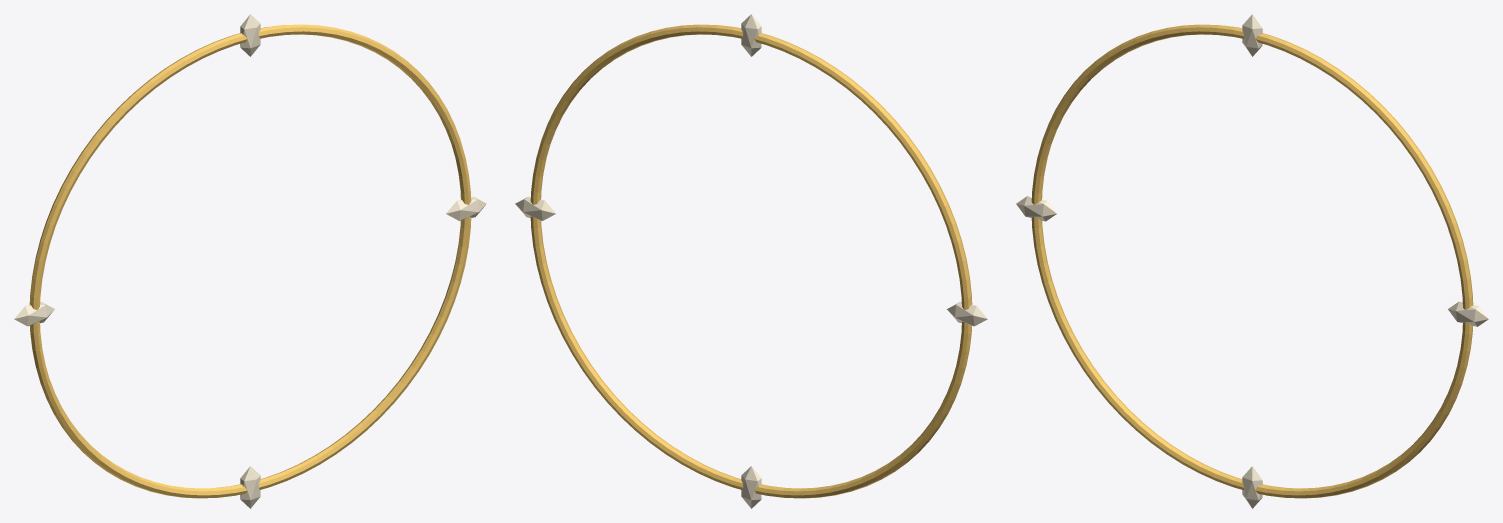
The model's file is wind-ring.glb.
3 views of the same model, side by side, from view 1: azimuth 30°, elevation 25°; view 2: azimuth 150°, elevation 25°; view 3: azimuth 330°, elevation 25° (orthographic).
Parts seen in each view (by area): view 1: Wind_Ring_Surface; view 2: Wind_Ring_Surface; view 3: Wind_Ring_Surface.
Boxes of the visible parts, <box> form: Wind_Ring_Surface: <box>14,14,486,508</box>; Wind_Ring_Surface: <box>515,14,987,508</box>; Wind_Ring_Surface: <box>1016,14,1488,508</box>.
Size of the model in its own units: 14.24 by 14.24 by 0.3403.
